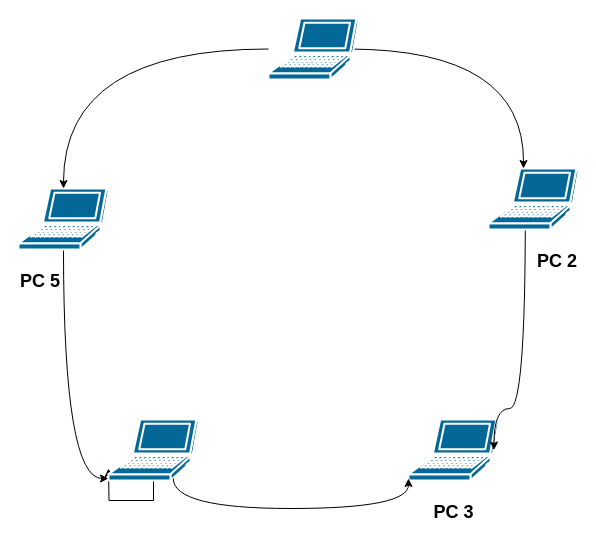
Image size: 596x555. Some labels were removed from this diagram. Each missing label, with the centre of its shape:
"PC 1" goes at pixel 313 48.
"PC 4" goes at pixel 153 449.
